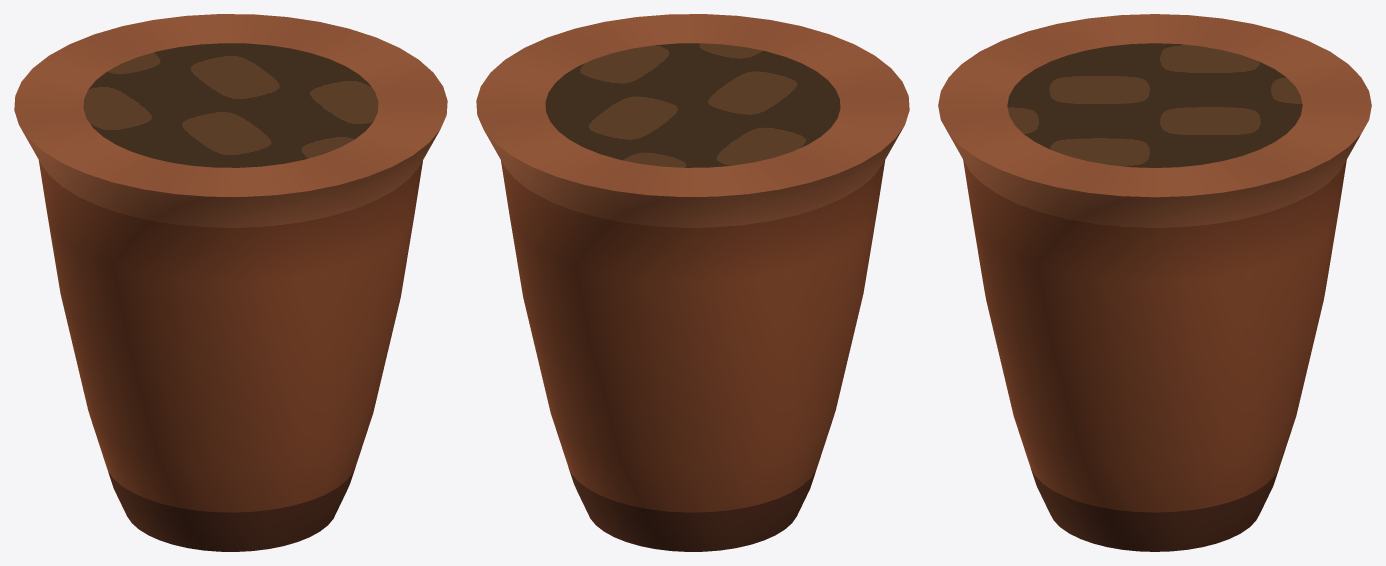
File: clay.glb
3 renders of one model, left to right at view 1: azimuth 30°, elevation 25°; view 2: azimuth 150°, elevation 25°; view 3: azimuth 270°, elevation 25°, orthographic.
Parts seen in each view (by area): view 1: 陶盆; view 2: 陶盆; view 3: 陶盆.
Part boxes in pixels (left/top/right/bottom): 陶盆: left=14, top=14, right=447, bottom=551; 陶盆: left=476, top=14, right=909, bottom=551; 陶盆: left=938, top=14, right=1371, bottom=551.
Size of the model in its own units: 0.47 by 0.48 by 0.47.
2 materials, 2 textured.
